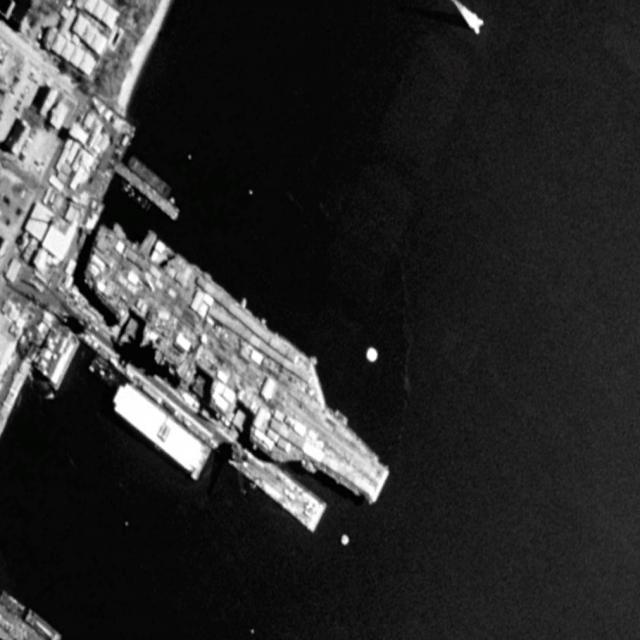Aircraft Carrier: (67, 199, 408, 532)
